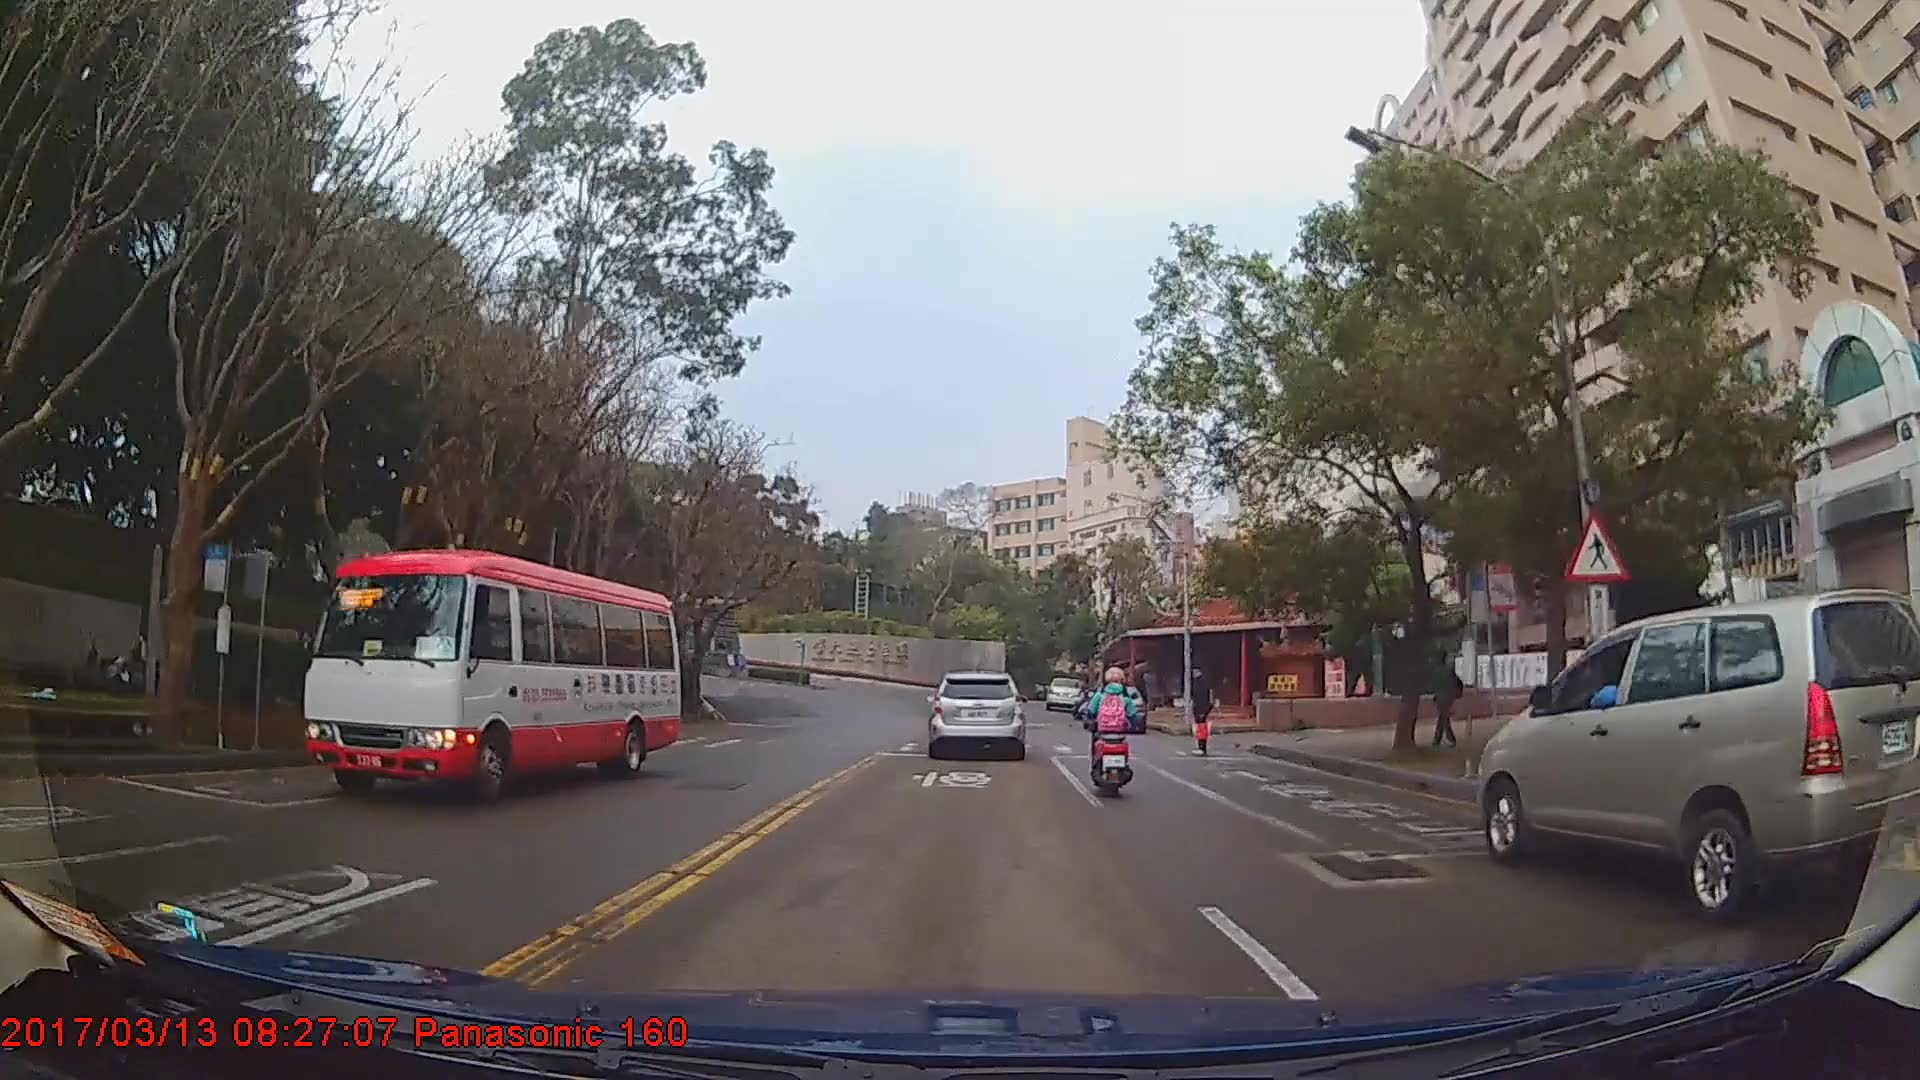pedestrian: (1425, 649, 1463, 745), (1187, 666, 1217, 759)
rider: (1080, 667, 1139, 798)
vehicle: (1477, 586, 1917, 925), (299, 548, 681, 807), (924, 671, 1027, 759), (1045, 675, 1084, 709)
